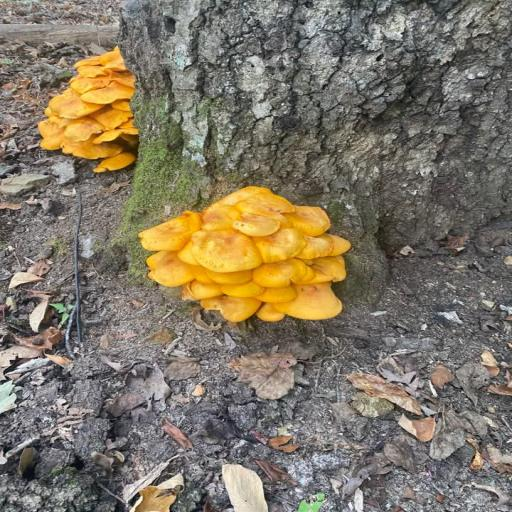Jack O Lantern Mushroom: (139, 181, 360, 332), (33, 47, 147, 181)
